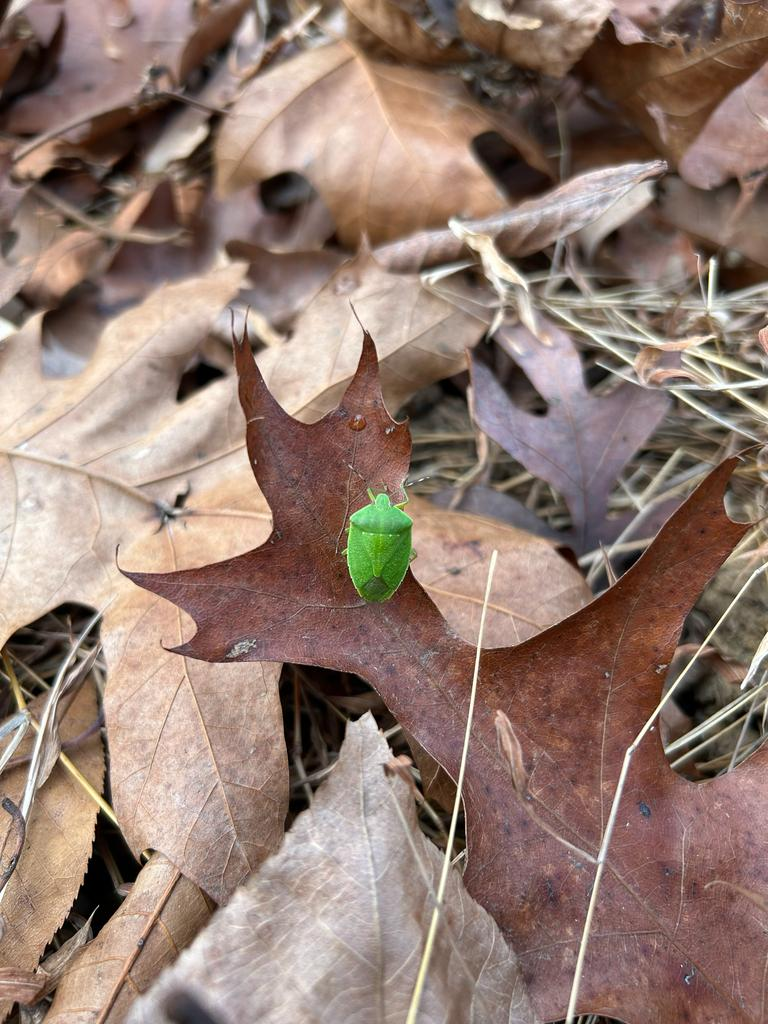stink_bugs: (311, 442, 457, 631)
